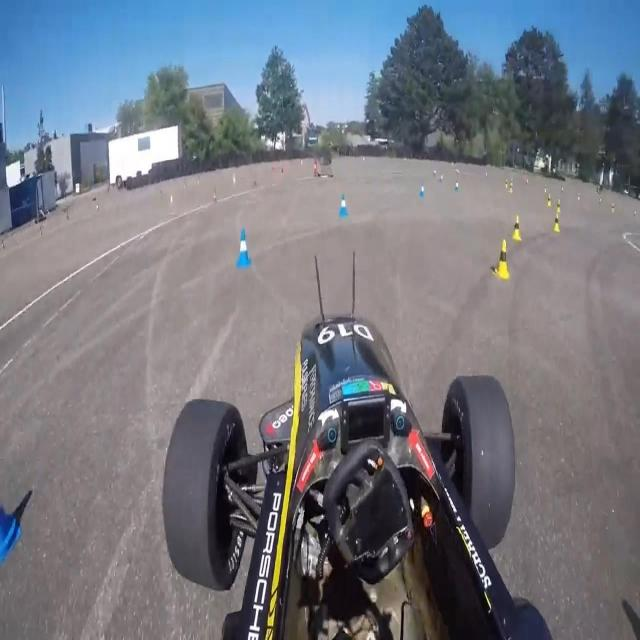blue_cone: (236, 227, 251, 270), (338, 193, 349, 217)
yellow_cone: (494, 238, 509, 278), (552, 210, 562, 232), (512, 216, 521, 240)
